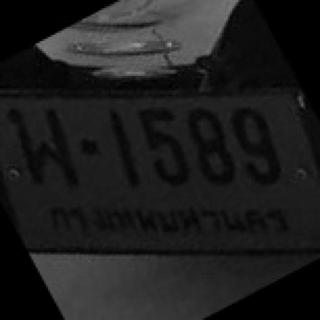A28: (3, 101, 84, 191)
